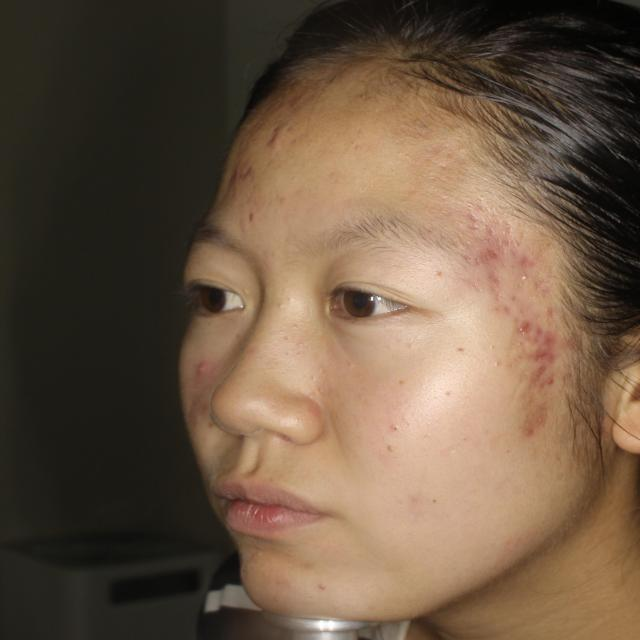pustule: (483, 266, 514, 296), (268, 128, 298, 152), (514, 251, 540, 278), (478, 242, 505, 266), (528, 342, 555, 364), (238, 164, 260, 190), (511, 316, 535, 339), (524, 411, 538, 450), (190, 358, 212, 382), (535, 330, 563, 345), (538, 367, 554, 388), (292, 90, 304, 110)
